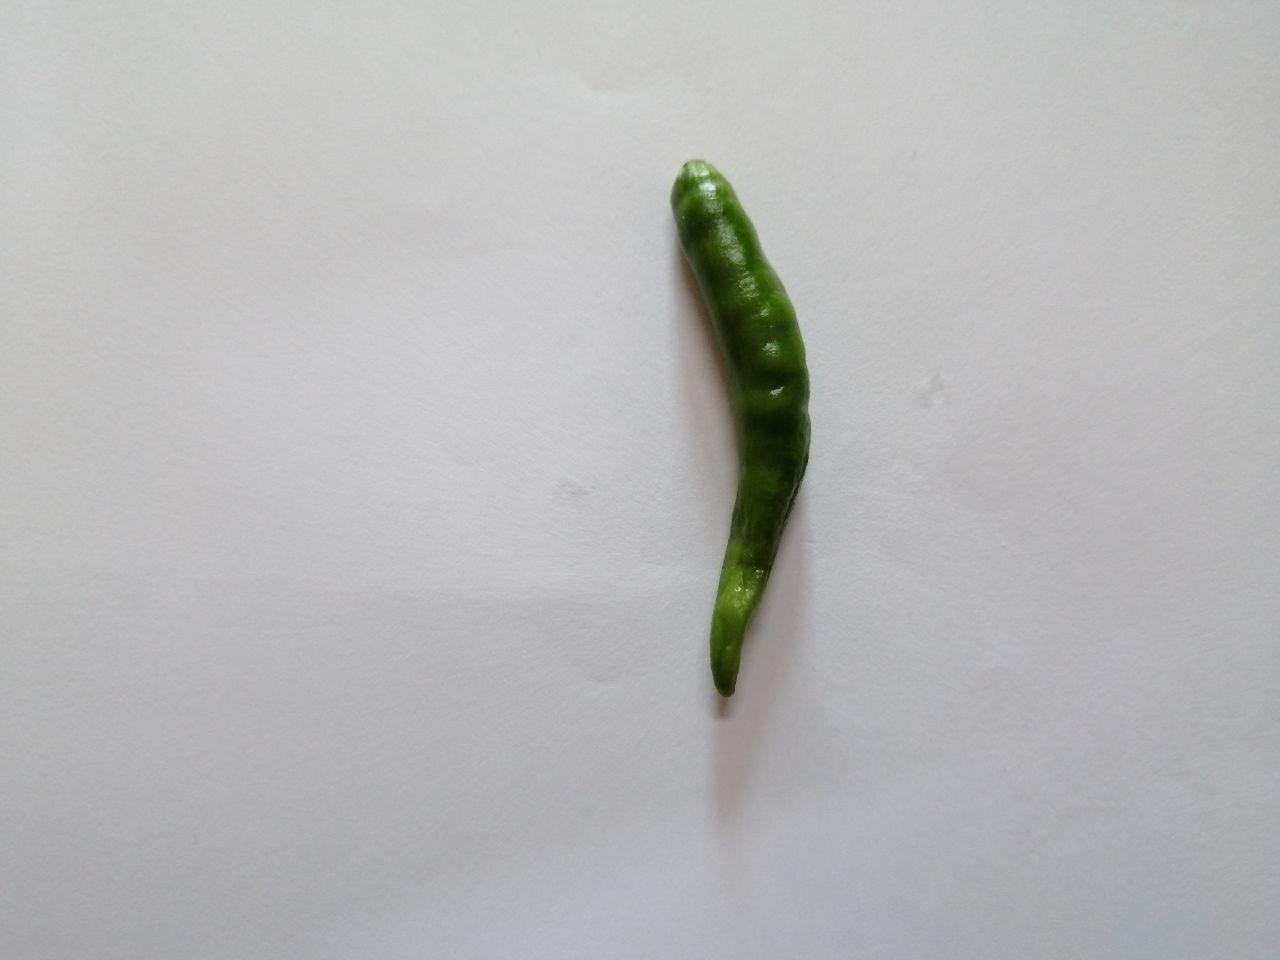lada hijau: (641, 139, 856, 715)
